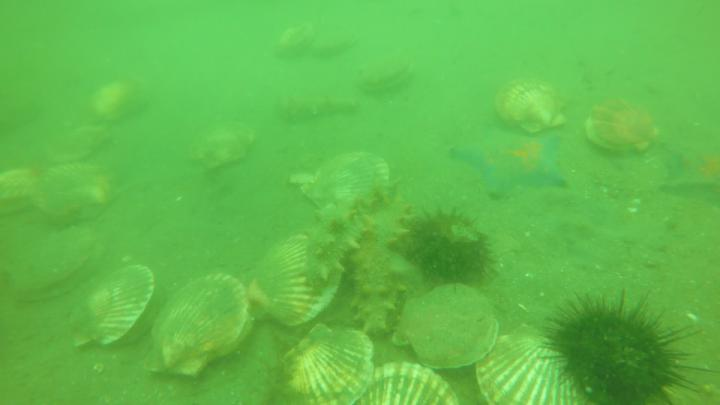echinus: (540, 280, 715, 405), (394, 201, 499, 289)
holothurian: (300, 196, 370, 292), (347, 219, 400, 338), (276, 87, 360, 125)
scallop: (140, 271, 251, 379), (472, 320, 596, 405), (397, 281, 504, 371), (250, 229, 346, 329), (275, 322, 379, 405), (70, 262, 158, 356), (11, 224, 106, 308), (300, 148, 398, 212), (490, 72, 578, 139), (336, 360, 465, 405), (584, 93, 662, 162), (29, 162, 117, 219), (186, 118, 259, 175), (355, 49, 420, 96), (85, 77, 149, 124), (269, 15, 318, 62), (304, 26, 365, 61), (1, 166, 39, 214)
starfish: (446, 123, 575, 202), (660, 132, 720, 214)
